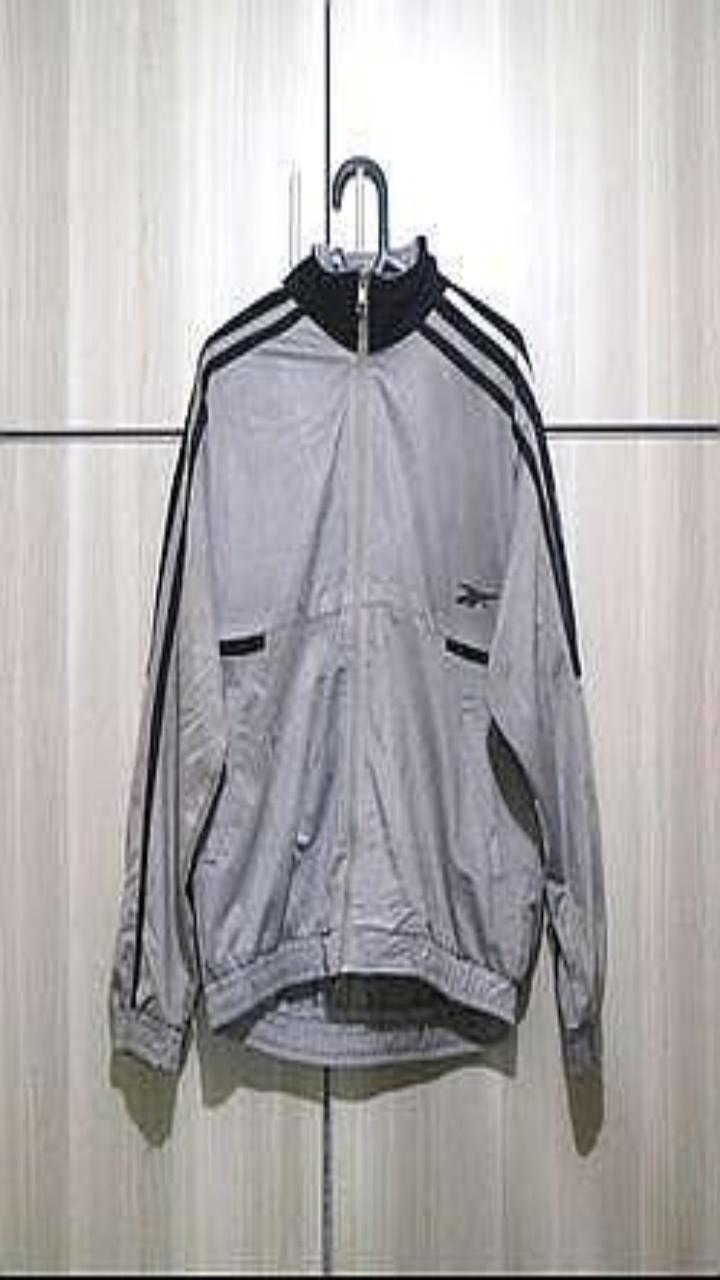Sports_Jacket: (109, 235, 605, 1073)
